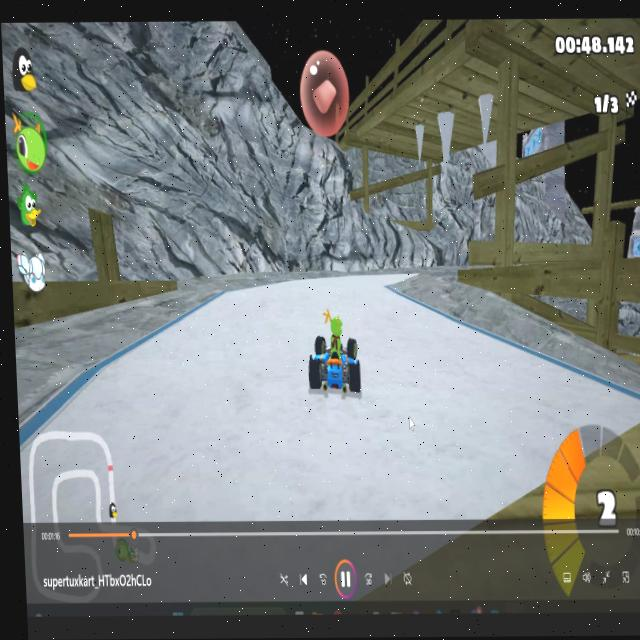player_kart: (305, 311, 367, 404)
track: (79, 407, 540, 527), (180, 318, 310, 417), (366, 312, 436, 414), (433, 327, 493, 428), (238, 288, 390, 313), (103, 365, 190, 406), (494, 348, 529, 445), (528, 367, 562, 430), (566, 395, 639, 412), (311, 279, 392, 293), (206, 299, 245, 319), (377, 271, 413, 277)
